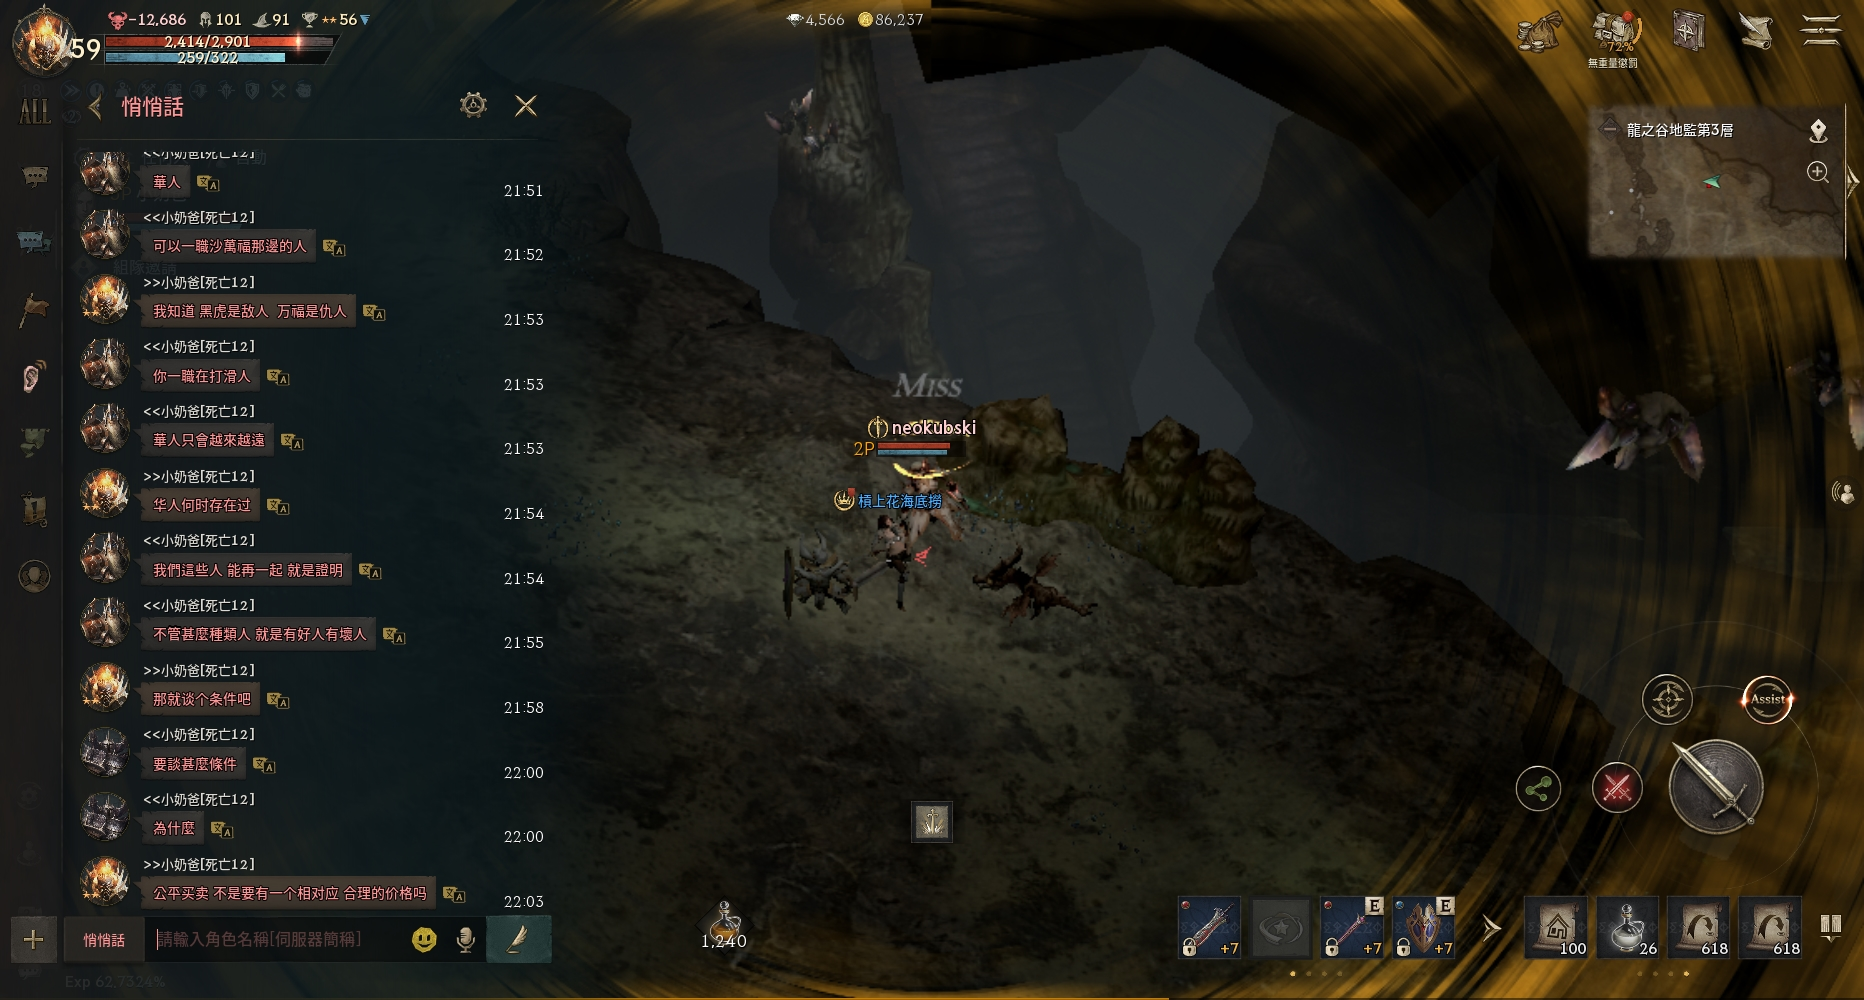enemy: (833, 485, 858, 512)
